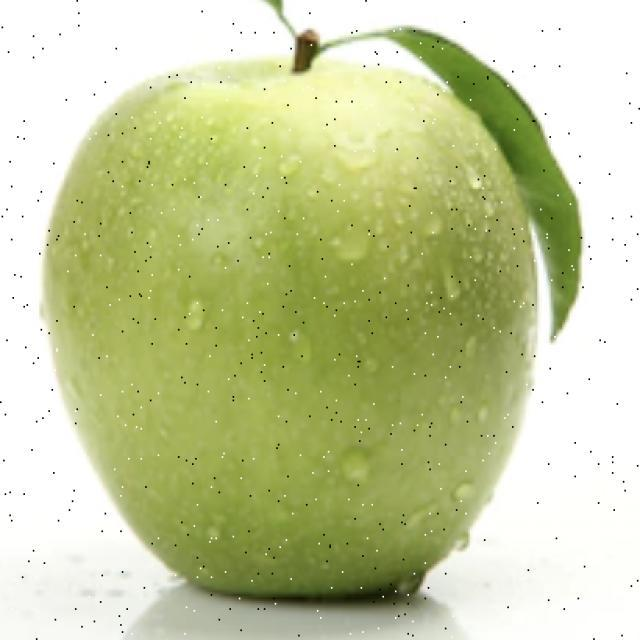Fresh Apple: (90, 45, 550, 610)
